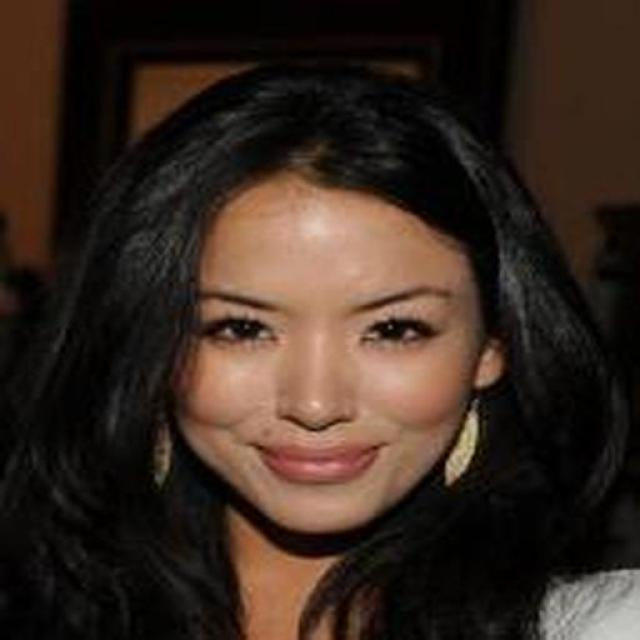bareface: (184, 78, 492, 536)
